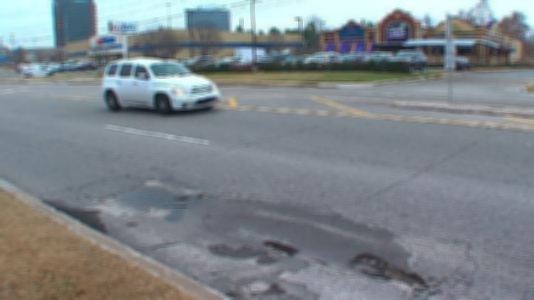pothole: (349, 251, 428, 291), (262, 236, 298, 254), (195, 188, 211, 199), (173, 193, 189, 201)
